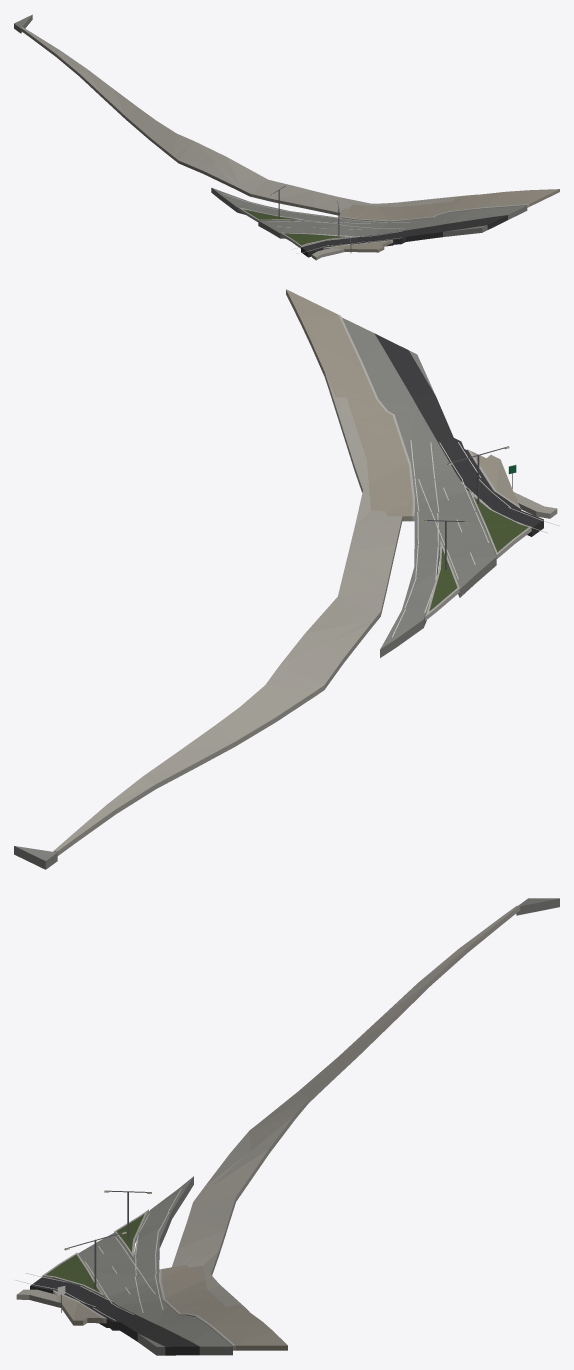
3 renders of one model, top to bottom at view 1: azimuth 30°, elevation 25°; view 2: azimuth 150°, elevation 25°; view 3: azimuth 330°, elevation 25°, orthographic. The views are drawn at different scales.
Size of the model in its own units: 52.12 by 14.64 by 146.
